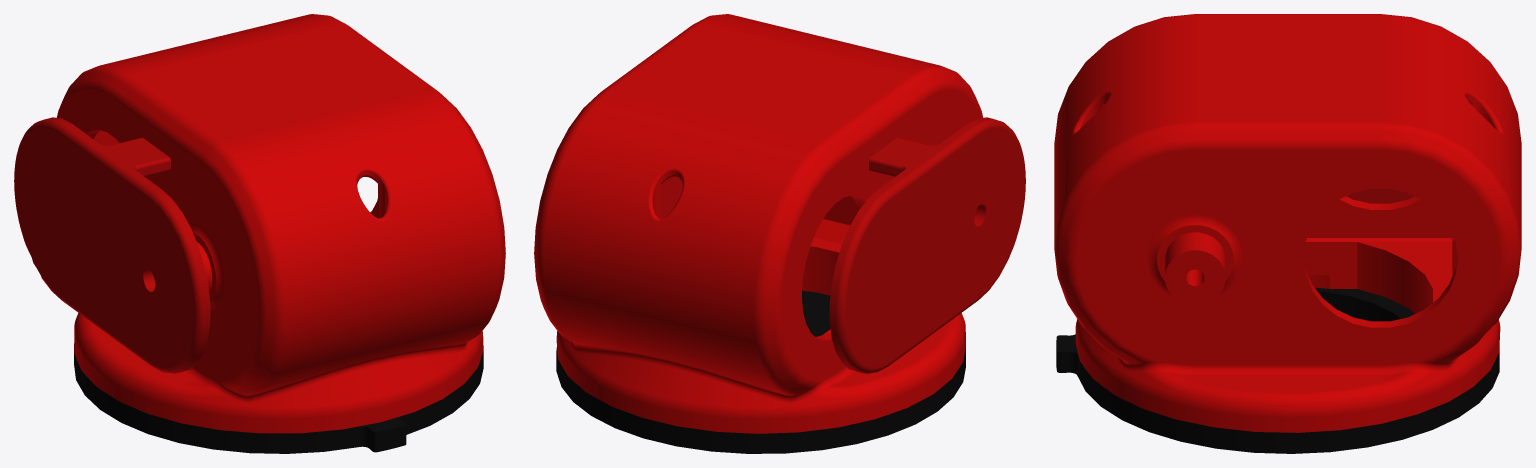
The model's file is Sciurus17_r7.gltf.
3 renders of one model, left to right at view 1: azimuth 30°, elevation 25°; view 2: azimuth 150°, elevation 25°; view 3: azimuth 270°, elevation 25°, orthographic. The views are drawn at different scales.
Visible parts, largest first — view 1: CRANE-X7_HandA 20180417; view 2: CRANE-X7_HandA 20180417; view 3: CRANE-X7_HandA 20180417.
Part boxes in pixels (x1,y1,x2,y2): CRANE-X7_HandA 20180417: [14, 14, 505, 453]; CRANE-X7_HandA 20180417: [534, 14, 1025, 453]; CRANE-X7_HandA 20180417: [1054, 14, 1521, 453].
Bounding box in the file's own units: 0.055 × 0.0422 × 0.0605.
